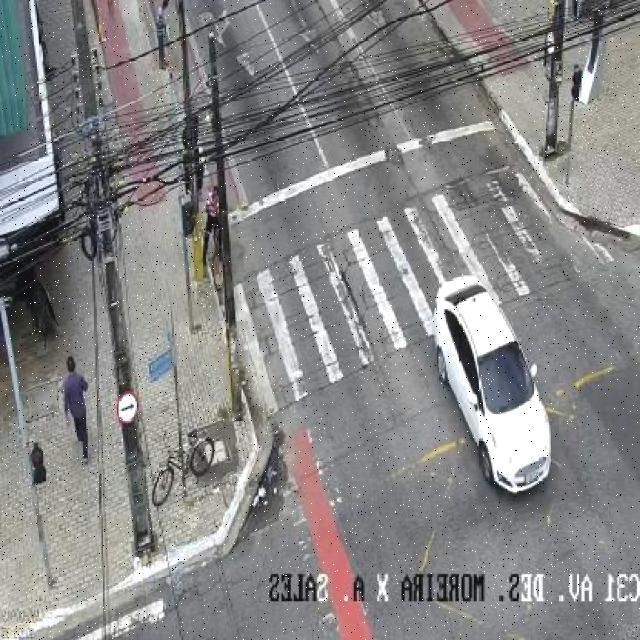Car: (432, 275, 554, 496)
Cycle: (150, 428, 216, 508)
